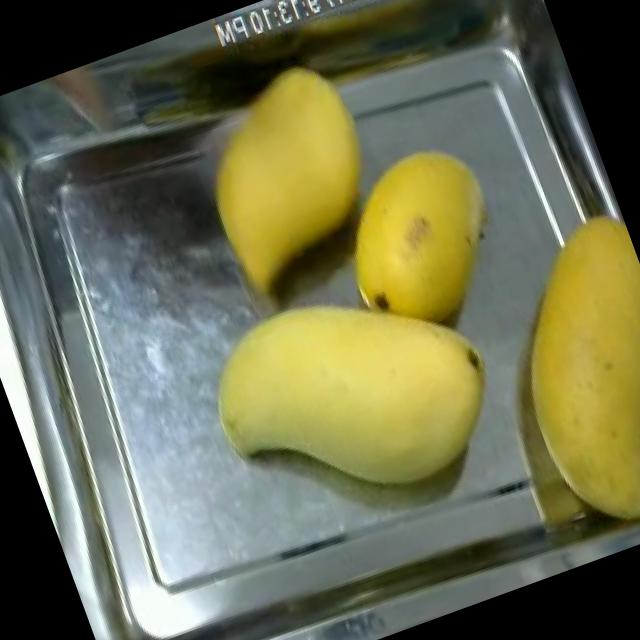fruit: (173, 235, 532, 558), (456, 198, 640, 562), (166, 42, 413, 300), (307, 120, 534, 358)
